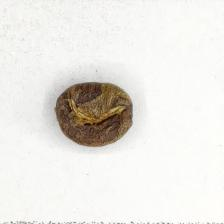NG: (57, 83, 131, 145)
